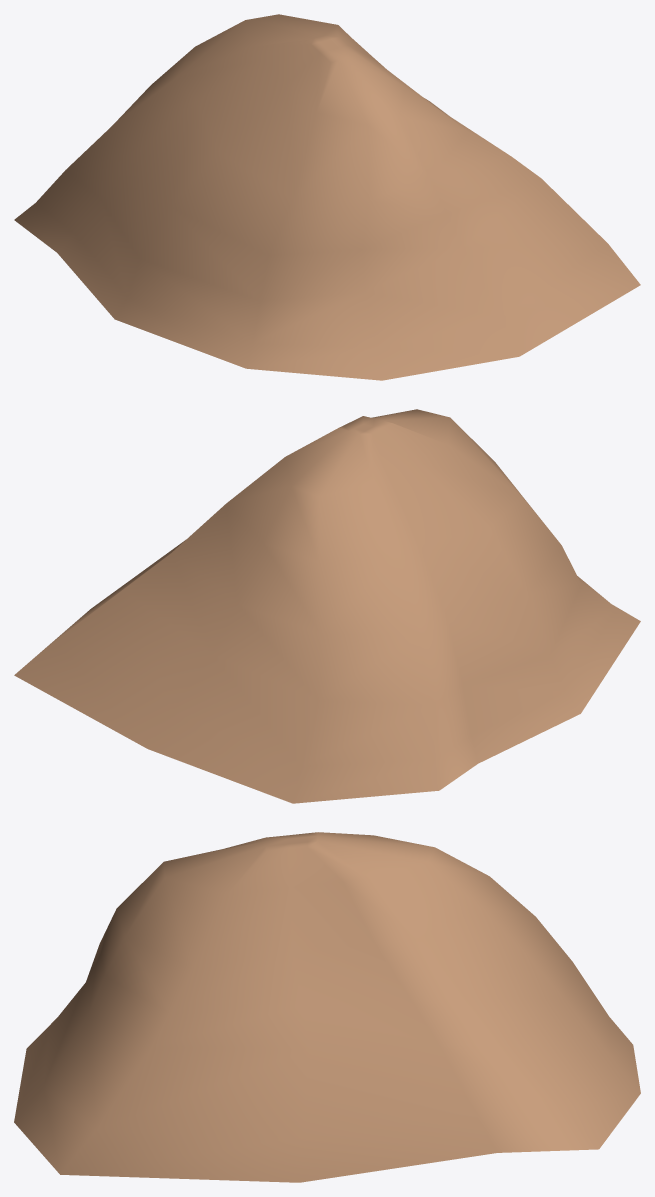
The model's file is Rock7Clean.fbx.
3 views of the same model, one above another, from view 1: azimuth 30°, elevation 25°; view 2: azimuth 150°, elevation 25°; view 3: azimuth 270°, elevation 25° (orthographic). The views are drawn at different scales.
Parts seen in each view (by area): view 1: pCube9; view 2: pCube9; view 3: pCube9.
Part boxes in pixels (<box>): pCube9: <box>14,14,640,380</box>; pCube9: <box>14,409,640,803</box>; pCube9: <box>14,832,640,1182</box>.
Size of the model in its own units: 0.8218 by 0.4763 by 0.9676.
